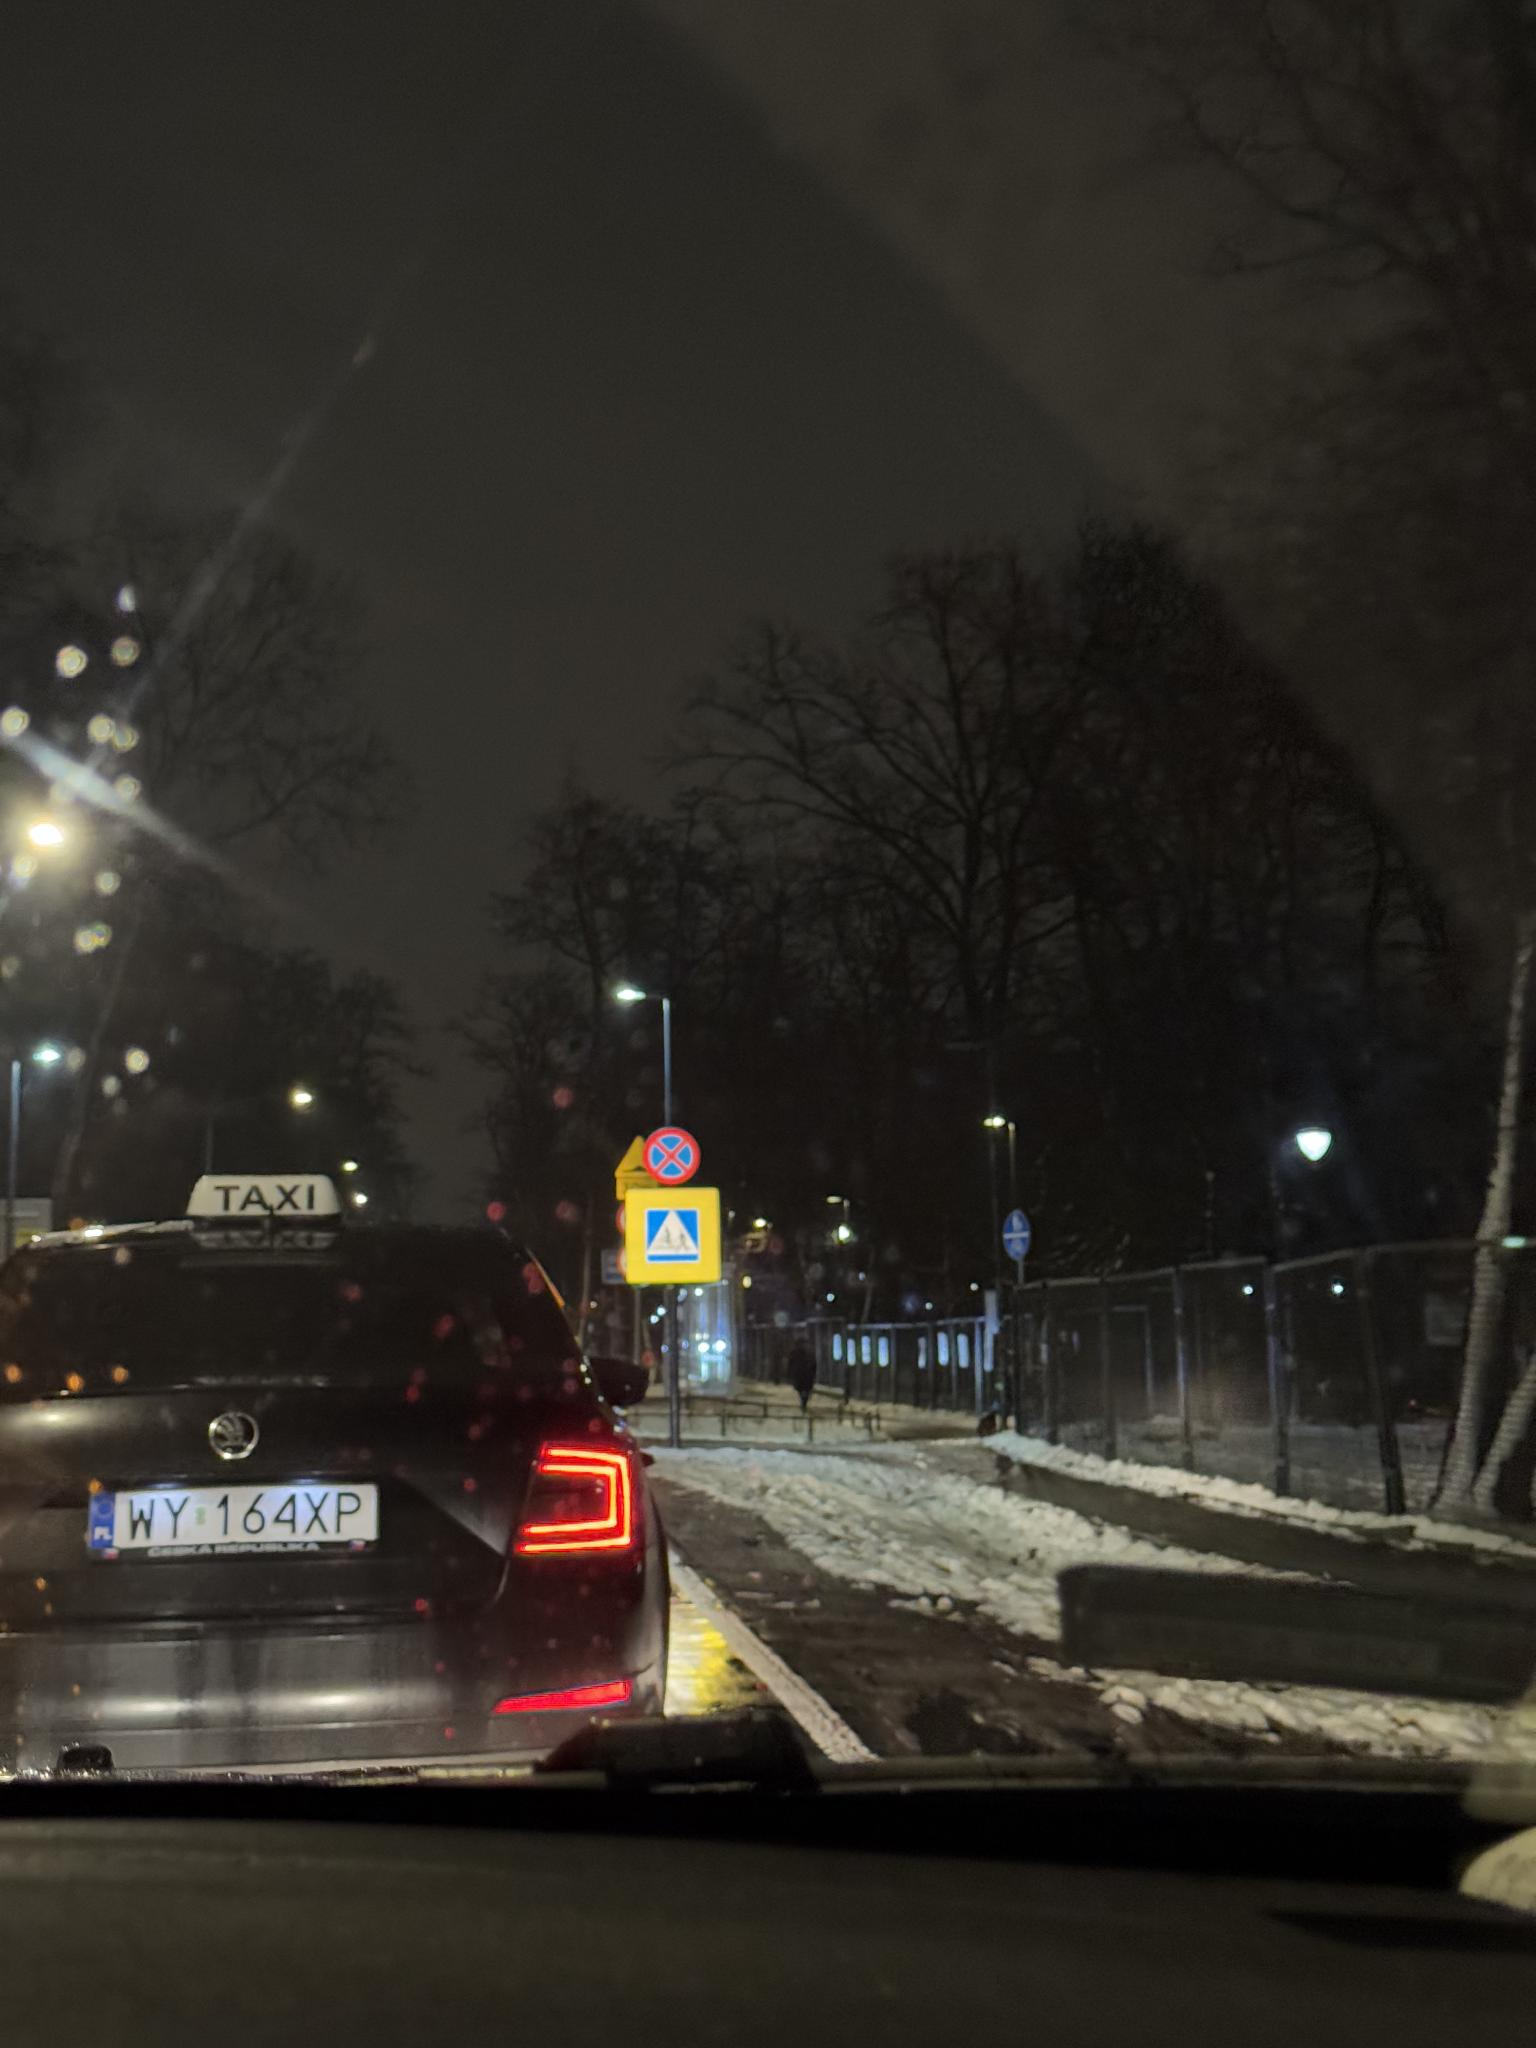information: (647, 1208, 700, 1263)
other: (616, 1177, 641, 1198)
prohibitory: (642, 1124, 702, 1185)
warning: (615, 1134, 644, 1177)
